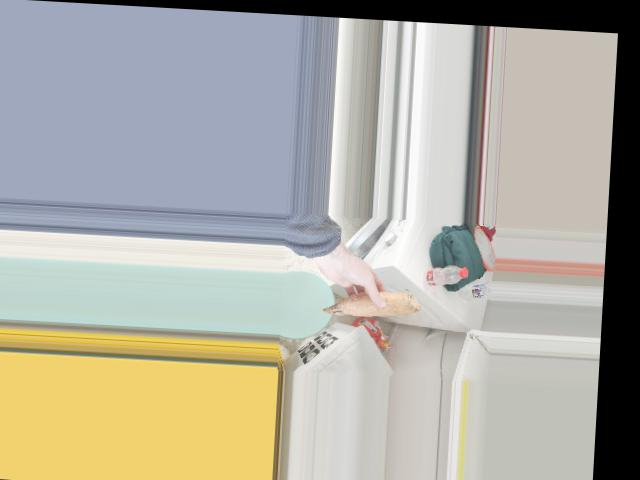sweet_potato: (323, 282, 424, 326)
